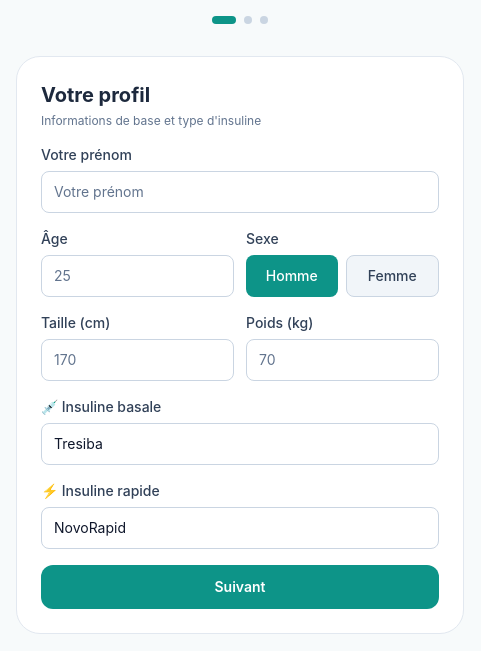
Scenario: App (intégration) › affiche l’onboarding quand non initialisé
Click the button "Suivant" at (240,587), box top-left (41, 565), bottom-right (439, 609)
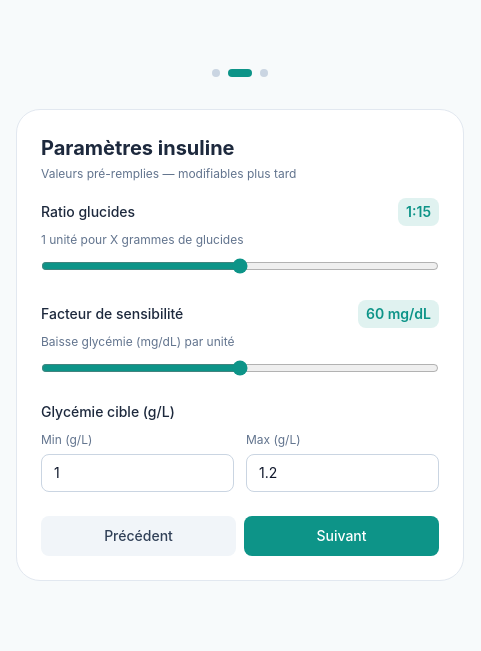
Now the heading "Paramètres insuline" is shown, box top-left (41, 136), bottom-right (234, 160)
